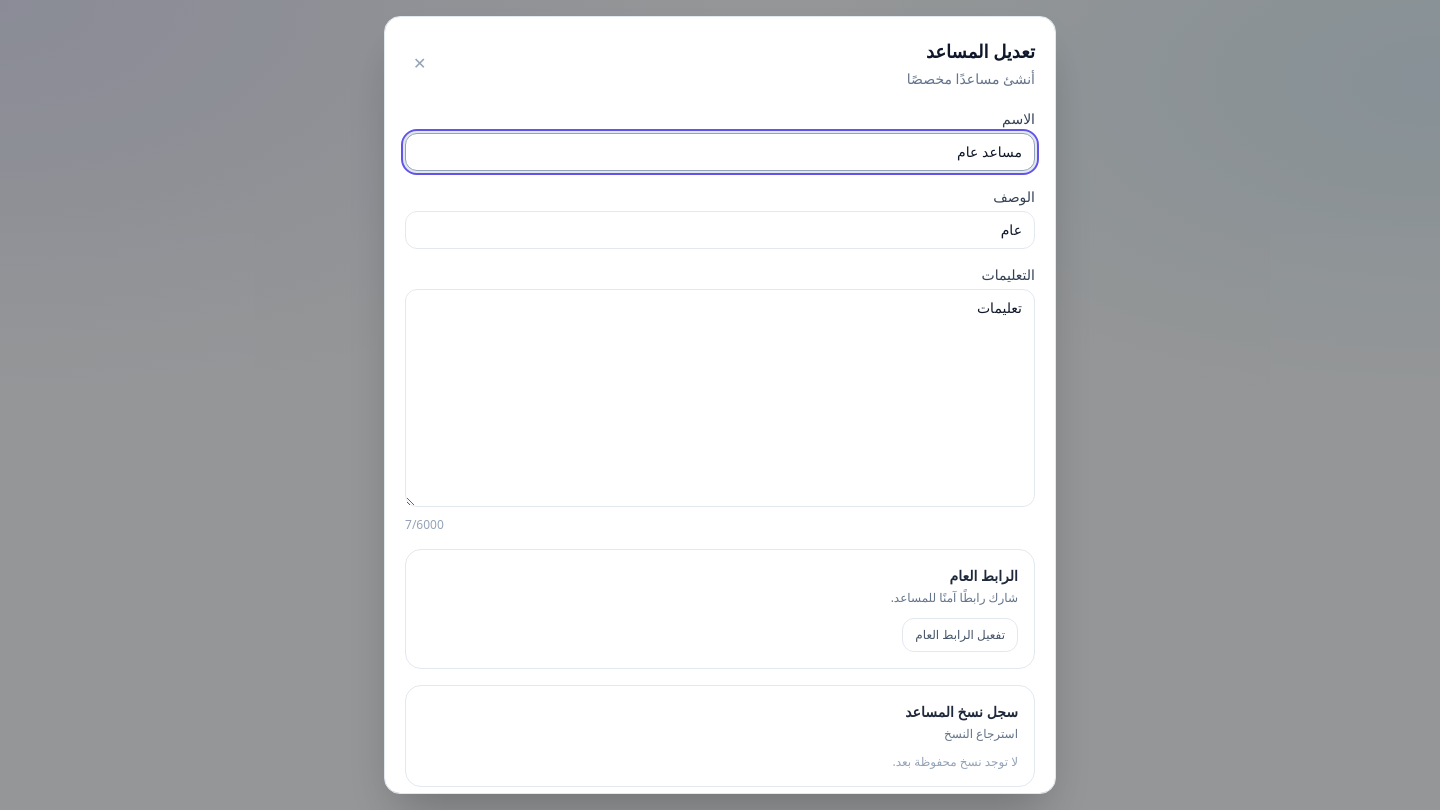
Test case: AssistantEditor › can enable a public assistant link
Click the button "تفعيل الرابط العام".
click(960, 635)  # box 902,618 -> 1018,652
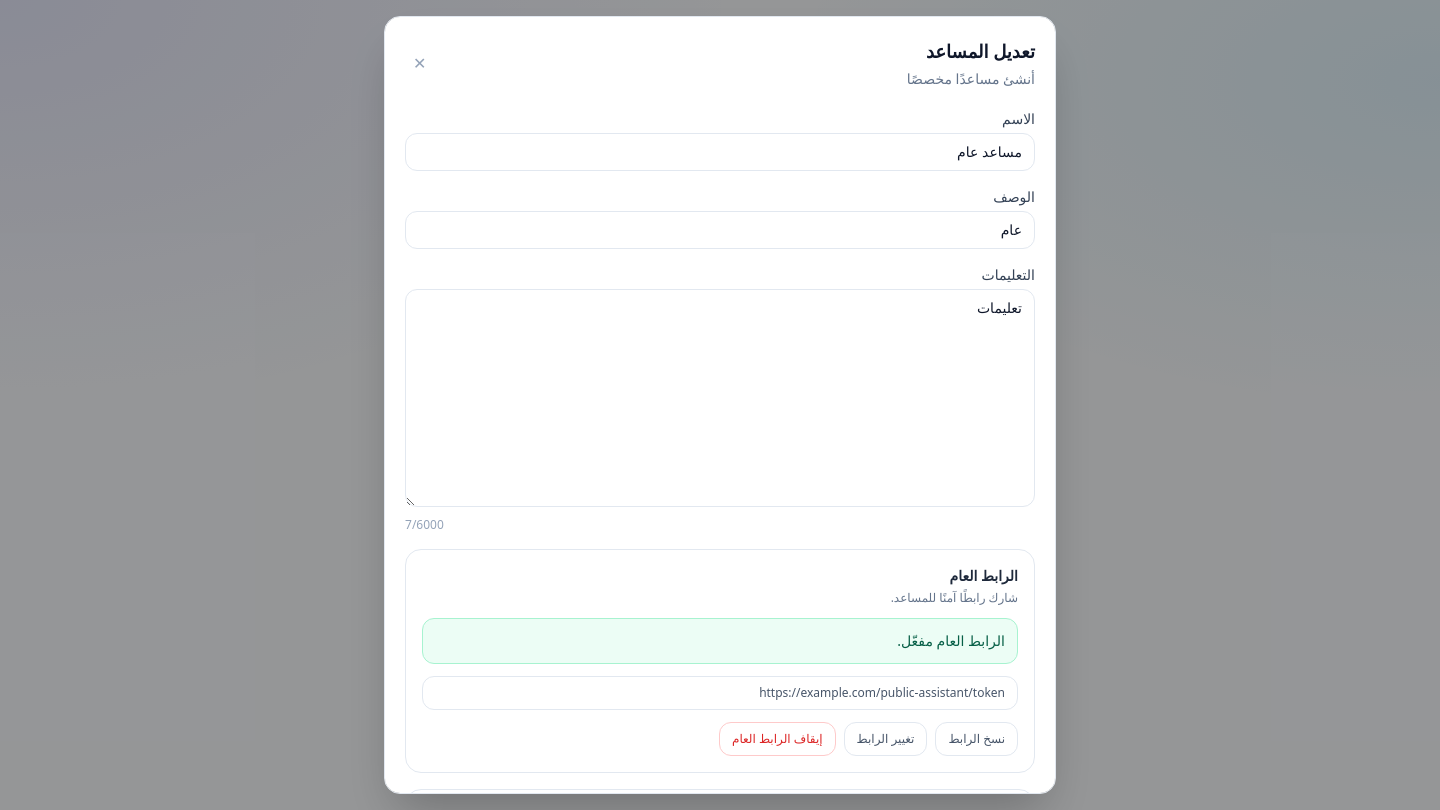
Expected: the field showing "https://example.com/public-assistant/token" is shown, 422,676 -> 1018,710
